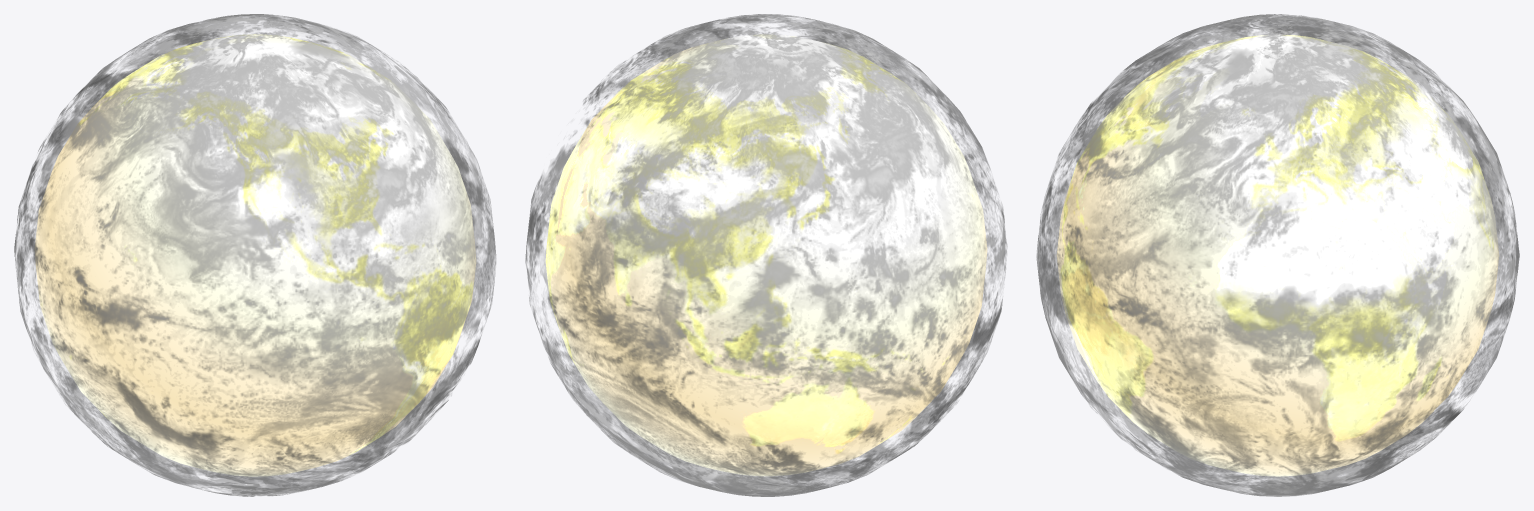
The model's file is earth.glb.
3 views of the same model, side by side, from view 1: azimuth 30°, elevation 25°; view 2: azimuth 150°, elevation 25°; view 3: azimuth 270°, elevation 25° (orthographic).
Visible parts, largest first — view 1: Sphere, Sphere.001; view 2: Sphere, Sphere.001; view 3: Sphere, Sphere.001.
Boxes of the visible parts, x1=… form: Sphere: x1=35, y1=34, x2=476, y2=476; Sphere.001: x1=14, y1=14, x2=495, y2=496; Sphere: x1=545, y1=34, x2=987, y2=476; Sphere.001: x1=525, y1=14, x2=1007, y2=496; Sphere: x1=1056, y1=34, x2=1499, y2=476; Sphere.001: x1=1036, y1=14, x2=1519, y2=496.
Bounding box in the file's own units: 2.18 × 2.18 × 2.18.
Materials: 2 (2 with a texture image).
